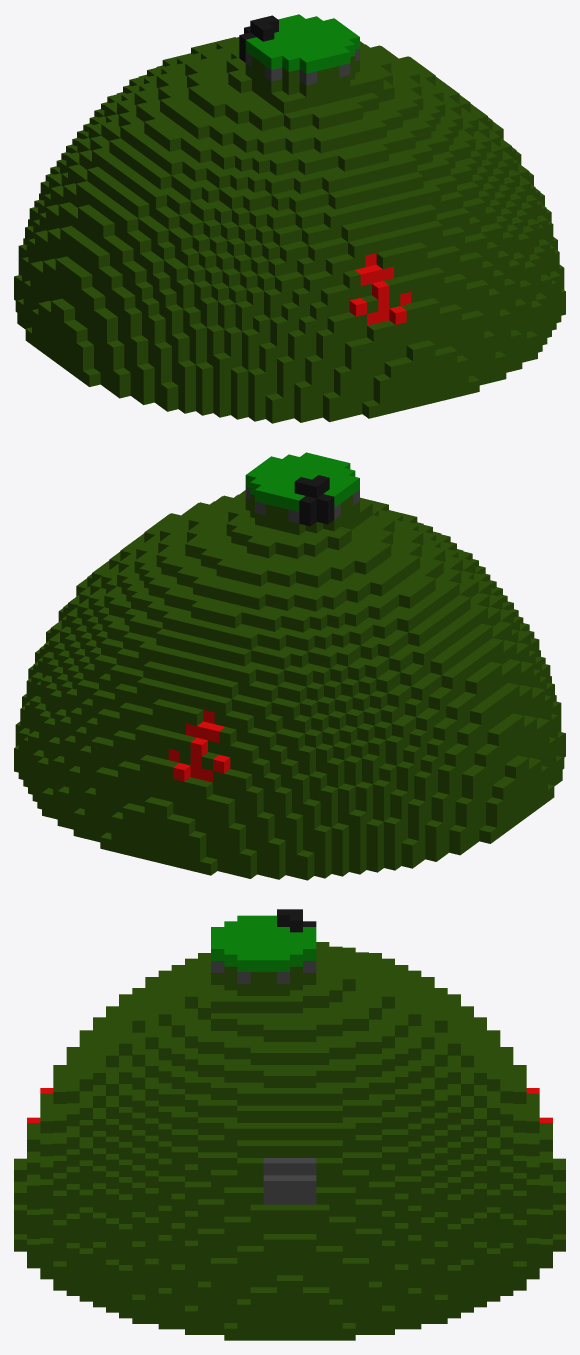
Rendered from Cannon-1.obj.
The picture shows the model from 3 angles, top to bottom: view 1: azimuth 30°, elevation 25°; view 2: azimuth 150°, elevation 25°; view 3: azimuth 270°, elevation 25°; orthographic projection. The views are drawn at different scales.
Size of the model in its own units: 4.2 by 2.5 by 4.2.
1 material, 1 textured.
